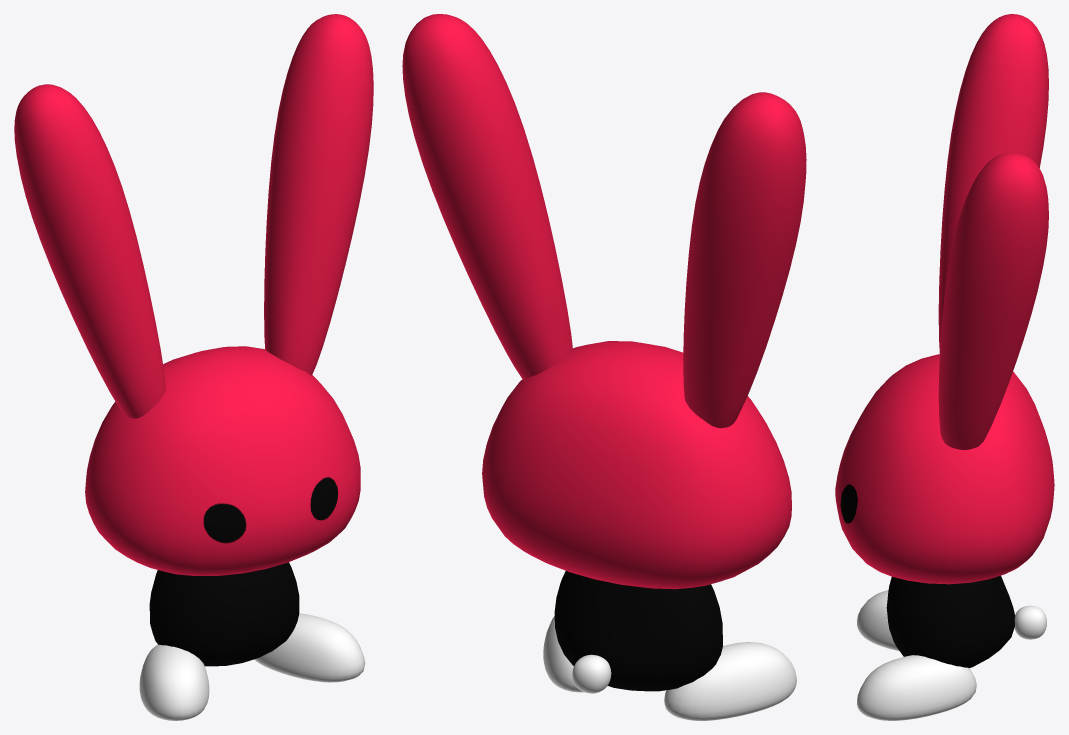
The model's file is pico.glb.
3 views of the same model, side by side, from view 1: azimuth 30°, elevation 25°; view 2: azimuth 150°, elevation 25°; view 3: azimuth 270°, elevation 25° (orthographic). The views are drawn at different scales.
Parts seen in each view (by area): view 1: Head.001; view 2: Head.001; view 3: Head.001.
Part boxes in pixels (bbox=[...]): Head.001: bbox=[14, 14, 373, 720]; Head.001: bbox=[402, 14, 806, 720]; Head.001: bbox=[835, 14, 1054, 720].
Bounding box in the file's own units: 2.74 × 4.53 × 1.52.
Materials: 1 (1 with a texture image).
